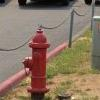a fire hydrant: (26, 30, 49, 90)
